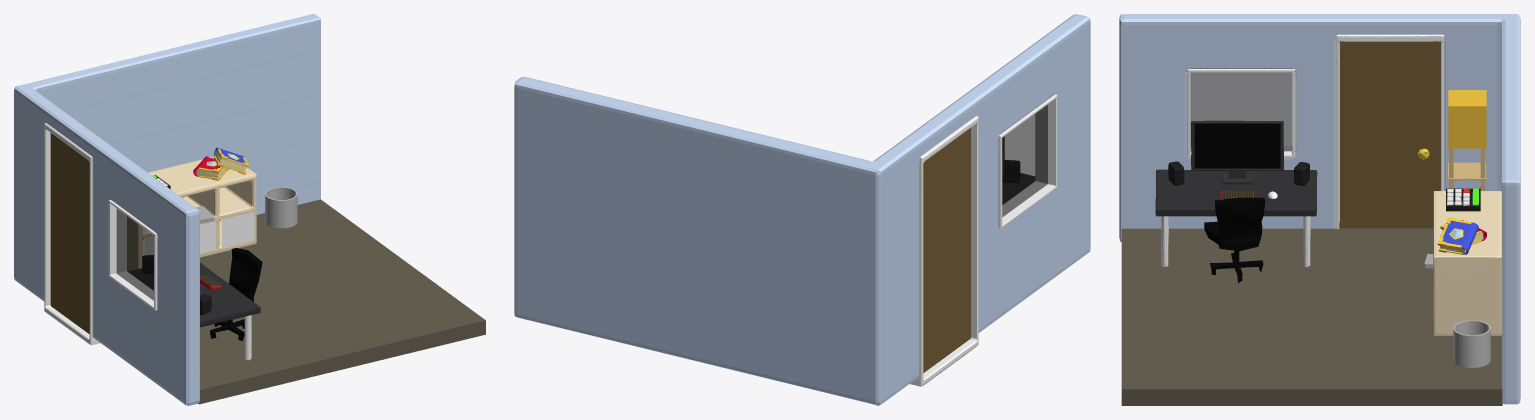
File: room-blender.glb
3 views of the same model, side by side, from view 1: azimuth 30°, elevation 25°; view 2: azimuth 150°, elevation 25°; view 3: azimuth 270°, elevation 25° (orthographic). The views are drawn at different scales.
Visible parts, largest first — view 1: wall 1, floor, Door, shelve, Door frame, Window, window frame, table, Box, thrash pin, Plane, BOOK 2 (+2 smaller); view 2: wall 1, Door, Door frame, Window, window frame; view 3: floor, wall 1, Door, shelve, table, Window, monitor, Box, Lamp cover, Door frame, thrash pin, window frame (+3 smaller).
Boxes of the visible parts, bbox=[...] form: wall 1: bbox=[14, 14, 320, 405]; floor: bbox=[127, 199, 485, 404]; Door: bbox=[50, 133, 89, 333]; shelve: bbox=[127, 156, 256, 269]; Door frame: bbox=[44, 123, 100, 345]; Window: bbox=[116, 209, 153, 300]; window frame: bbox=[108, 200, 157, 310]; table: bbox=[128, 262, 260, 360]; Box: bbox=[210, 248, 262, 341]; thrash pin: bbox=[265, 187, 297, 228]; Plane: bbox=[221, 212, 253, 247]; BOOK 2: bbox=[214, 147, 249, 174]; wall 1: bbox=[514, 14, 1090, 405]; Door: bbox=[923, 128, 970, 372]; Door frame: bbox=[910, 116, 978, 386]; Window: bbox=[1002, 105, 1047, 216]; window frame: bbox=[998, 94, 1057, 228]; floor: bbox=[1121, 228, 1502, 405]; wall 1: bbox=[1119, 14, 1520, 404]; Door: bbox=[1339, 41, 1440, 228]; shelve: bbox=[1433, 191, 1501, 335]; table: bbox=[1155, 169, 1317, 267]; Window: bbox=[1190, 72, 1292, 151]; monitor: bbox=[1191, 120, 1283, 184]; Box: bbox=[1204, 197, 1265, 283]; Lamp cover: bbox=[1448, 90, 1486, 148]; Door frame: bbox=[1336, 34, 1444, 229]; thrash pin: bbox=[1453, 320, 1490, 367]; window frame: bbox=[1187, 69, 1295, 157].
Size of the model in its own units: 5.46 by 3.46 by 5.43.
